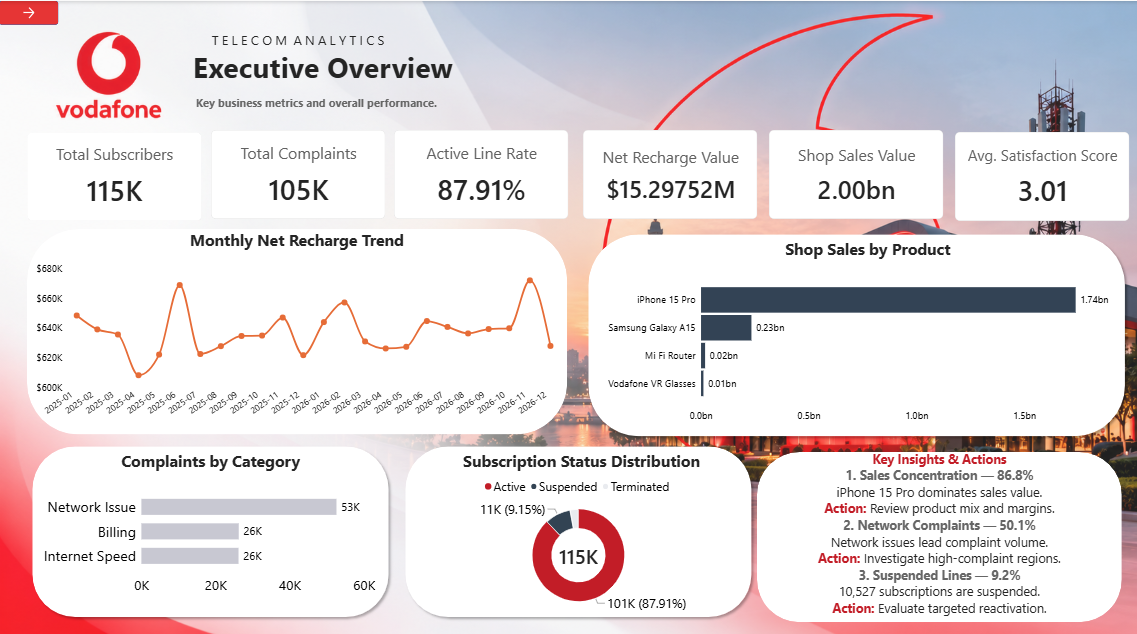

The page's visual inventory and layout, read from the dashboard file:
{"tool":"powerbi","page":{"name":"Excutive Overview","canvas":[1920,1080],"ordinal":1},"visuals":[{"type":"textbox","box":[283.5,50.6,442.1,54],"z":0},{"type":"textbox","box":[327.4,77.6,475.9,81],"z":1000},{"type":"textbox","box":[283.5,158.6,504.6,32.1],"z":2000},{"type":"cardVisual","fields":{"Data":["DAXX Measures.Total Subscribers"]},"box":[47.6,221.1,294.2,149.7],"z":3000},{"type":"cardVisual","fields":{"Data":["DAXX Measures.Total Complaints"]},"box":[357.1,217.7,294,150.2],"z":4000},{"type":"cardVisual","fields":{"Data":["DAXX Measures.Active Line Rate"]},"box":[666.6,217.7,294,150.2],"z":5000},{"type":"cardVisual","fields":{"Data":["DAXX Measures.Net Recharge Value"]},"box":[984.7,217.7,294,150.2],"z":6000},{"type":"cardVisual","fields":{"Data":["DAXX Measures.Shop Sales Value"]},"box":[1299.3,217.7,294,150.2],"z":7000},{"type":"shape","box":[47.6,384.3,911.5,346.9],"z":8000},{"type":"textbox","box":[0,384.3,1005.1,57.8],"z":9000},{"type":"lineChart","fields":{"Category":["DimDate.YearMonth"],"Y":["DAXX Measures.Net Recharge Value"]},"box":[47.6,425.2,913.2,306.1],"z":10000},{"type":"cardVisual","fields":{"Data":["DAXX Measures.Avg. Satisfaction Score"]},"box":[1613.9,221.1,294,150.2],"z":11000},{"type":"shape","box":[984.7,384.3,923.4,358.8],"z":12000},{"type":"textbox","box":[1079.9,399.6,772.1,62.9],"z":13000},{"type":"clusteredBarChart","fields":{"Category":["FactShopSales.product_name"],"Y":["DAXX Measures.Shop Sales Value"]},"box":[1000,442.2,908.1,289.1],"z":14000},{"type":"shape","box":[47.6,743.2,619,306.1],"z":15000},{"type":"textbox","box":[117.3,758.5,477.9,54.4],"z":16000},{"type":"shape","box":[676.8,743.2,602,306.1],"z":17000},{"type":"clusteredBarChart","fields":{"Category":["FactComplaints.category"],"Y":["DAXX Measures.Total Complaints"]},"box":[47.6,801,603.7,221.1],"z":18000},{"type":"textbox","box":[750,758.5,467.7,54.4],"z":19000},{"type":"donutChart","fields":{"Category":["DimSubscription.status"],"Y":["DAXX Measures.Total Subscriptions"]},"box":[676.8,785.7,602,263.6],"z":20000},{"type":"shape","box":[1278.9,761.9,615.6,287.4],"z":21000},{"type":"textbox","box":[1278.9,758.5,615.6,290.8],"z":22000},{"type":"actionButton","box":[0,0,100,40],"z":22001},{"type":"actionButton","box":[0,0,100,40],"z":22002},{"type":"actionButton","box":[0,0,100,40],"z":22003},{"type":"actionButton","box":[0,0,100,40],"z":22004},{"type":"actionButton","box":[0,0,100,40],"z":22005}]}

Visuals, with their boxes in screenshot pixels (x1, y1, x2, y2), scaled from the page's 1920x1080 canvas onto the 1137x634 screenshot:
textbox: box=[168, 30, 430, 61]
textbox: box=[194, 46, 476, 93]
textbox: box=[168, 93, 467, 112]
cardVisual - DAXX Measures.Total Subscribers: box=[28, 130, 202, 218]
cardVisual - DAXX Measures.Total Complaints: box=[211, 128, 386, 216]
cardVisual - DAXX Measures.Active Line Rate: box=[395, 128, 569, 216]
cardVisual - DAXX Measures.Net Recharge Value: box=[583, 128, 757, 216]
cardVisual - DAXX Measures.Shop Sales Value: box=[769, 128, 944, 216]
shape: box=[28, 226, 568, 429]
textbox: box=[0, 226, 595, 260]
lineChart - DimDate.YearMonth x DAXX Measures.Net Recharge Value: box=[28, 250, 569, 429]
cardVisual - DAXX Measures.Avg. Satisfaction Score: box=[956, 130, 1130, 218]
shape: box=[583, 226, 1130, 436]
textbox: box=[640, 235, 1097, 272]
clusteredBarChart - FactShopSales.product_name x DAXX Measures.Shop Sales Value: box=[592, 260, 1130, 429]
shape: box=[28, 436, 395, 616]
textbox: box=[69, 445, 352, 477]
shape: box=[401, 436, 757, 616]
clusteredBarChart - FactComplaints.category x DAXX Measures.Total Complaints: box=[28, 470, 386, 600]
textbox: box=[444, 445, 721, 477]
donutChart - DimSubscription.status x DAXX Measures.Total Subscriptions: box=[401, 461, 757, 616]
shape: box=[757, 447, 1122, 616]
textbox: box=[757, 445, 1122, 616]
actionButton: box=[0, 0, 59, 23]
actionButton: box=[0, 0, 59, 23]
actionButton: box=[0, 0, 59, 23]
actionButton: box=[0, 0, 59, 23]
actionButton: box=[0, 0, 59, 23]
